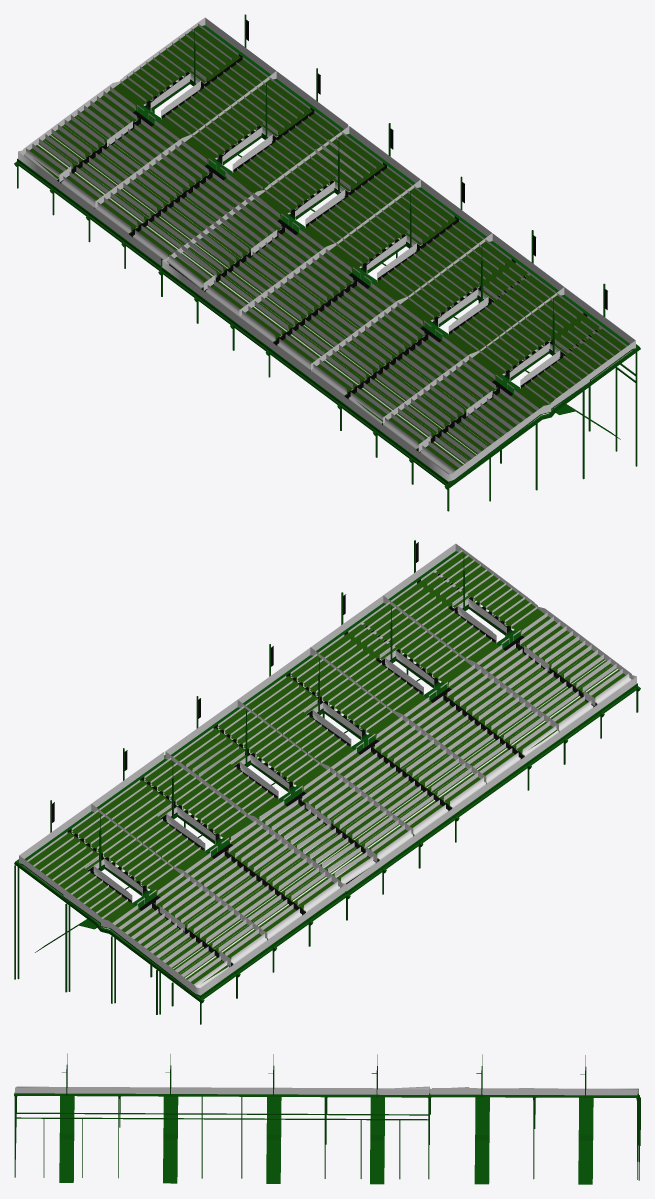
File: T2_GrandStand05.fbx
3 renders of one model, top to bottom at view 1: azimuth 30°, elevation 25°; view 2: azimuth 150°, elevation 25°; view 3: azimuth 270°, elevation 25°, orthographic. The views are drawn at different scales.
Parts seen in each view (by area): view 1: T2_GrandStand05_Audience_Far, T2_GrandStand05_Audience_alpha, T2_GrandStand05_Fence_alpha, T2_GrandStand05_Base, T2_GrandStand05_Base2, T2_GrandStand05_Chairs_ShadowOnly, T2_GrandStand05_Chairs_alpha; view 2: T2_GrandStand05_Audience_Far, T2_GrandStand05_Audience_alpha, T2_GrandStand05_Fence_alpha, T2_GrandStand05_Base, T2_GrandStand05_Base2, T2_GrandStand05_Chairs_ShadowOnly, T2_GrandStand05_Chairs_alpha; view 3: T2_GrandStand05_Base2, T2_GrandStand05_Fence_alpha, T2_GrandStand05_Base, T2_GrandStand05_Audience_alpha.
Part boxes in pixels (left/top/right/bottom): T2_GrandStand05_Audience_Far: left=29, top=26, right=625, bottom=470; T2_GrandStand05_Audience_alpha: left=24, top=23, right=627, bottom=474; T2_GrandStand05_Fence_alpha: left=18, top=17, right=635, bottom=481; T2_GrandStand05_Base: left=17, top=25, right=636, bottom=484; T2_GrandStand05_Base2: left=14, top=14, right=640, bottom=511; T2_GrandStand05_Chairs_ShadowOnly: left=57, top=70, right=600, bottom=449; T2_GrandStand05_Chairs_alpha: left=37, top=72, right=597, bottom=464; T2_GrandStand05_Audience_Far: left=28, top=552, right=625, bottom=984; T2_GrandStand05_Audience_alpha: left=27, top=550, right=631, bottom=988; T2_GrandStand05_Fence_alpha: left=19, top=543, right=636, bottom=995; T2_GrandStand05_Base: left=18, top=551, right=637, bottom=997; T2_GrandStand05_Base2: left=14, top=540, right=640, bottom=1024; T2_GrandStand05_Chairs_ShadowOnly: left=71, top=571, right=597, bottom=963; T2_GrandStand05_Chairs_alpha: left=72, top=573, right=617, bottom=978; T2_GrandStand05_Base2: left=14, top=1069, right=640, bottom=1184; T2_GrandStand05_Fence_alpha: left=15, top=1086, right=638, bottom=1095; T2_GrandStand05_Base: left=14, top=1053, right=638, bottom=1095; T2_GrandStand05_Audience_alpha: left=17, top=1086, right=637, bottom=1089.
Bounding box in the file's own units: 15.14 × 10.57 × 54.52.
